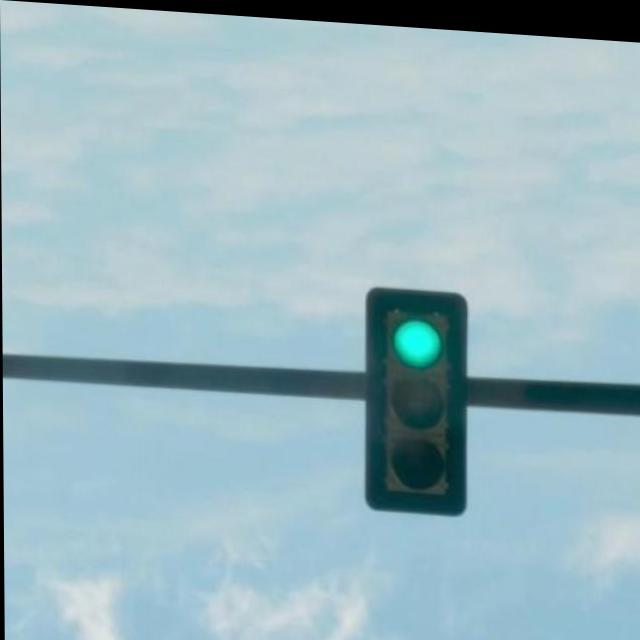green light: (378, 305, 453, 489)
